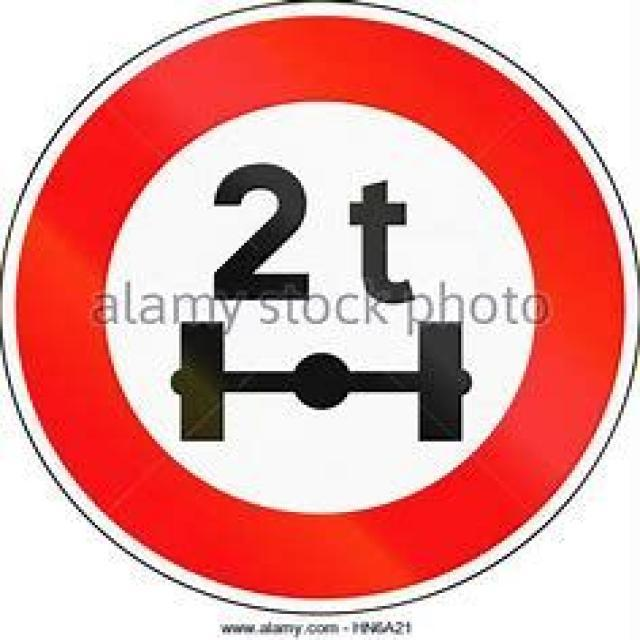axle load limit: (19, 19, 623, 602)
